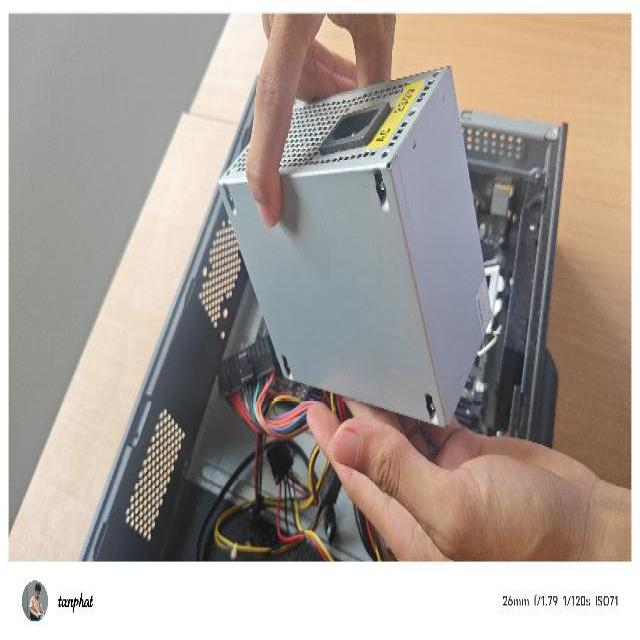PSU: (217, 56, 494, 429)
